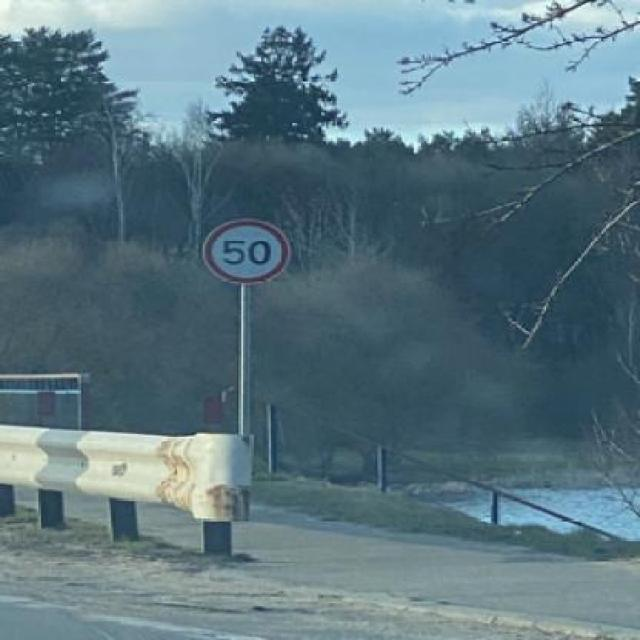Speed limit 50: (199, 215, 295, 289)
